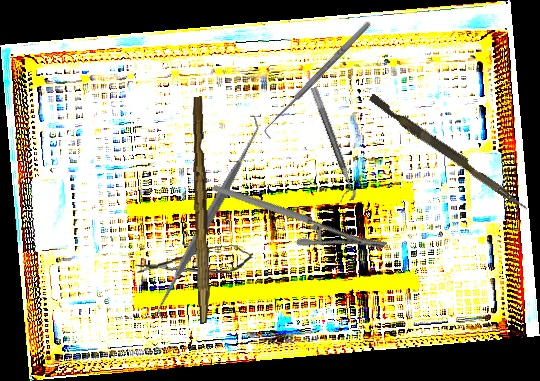Fixation Ring: (300, 86, 359, 204)
Hook Surgical: (258, 18, 378, 141)
Micro Scissor: (134, 243, 254, 280)
Needle Holder: (211, 136, 388, 296)
Pusher: (365, 93, 533, 212)
Scalpel Handle: (187, 96, 216, 324)
Spatula Surgical: (143, 113, 274, 322)
